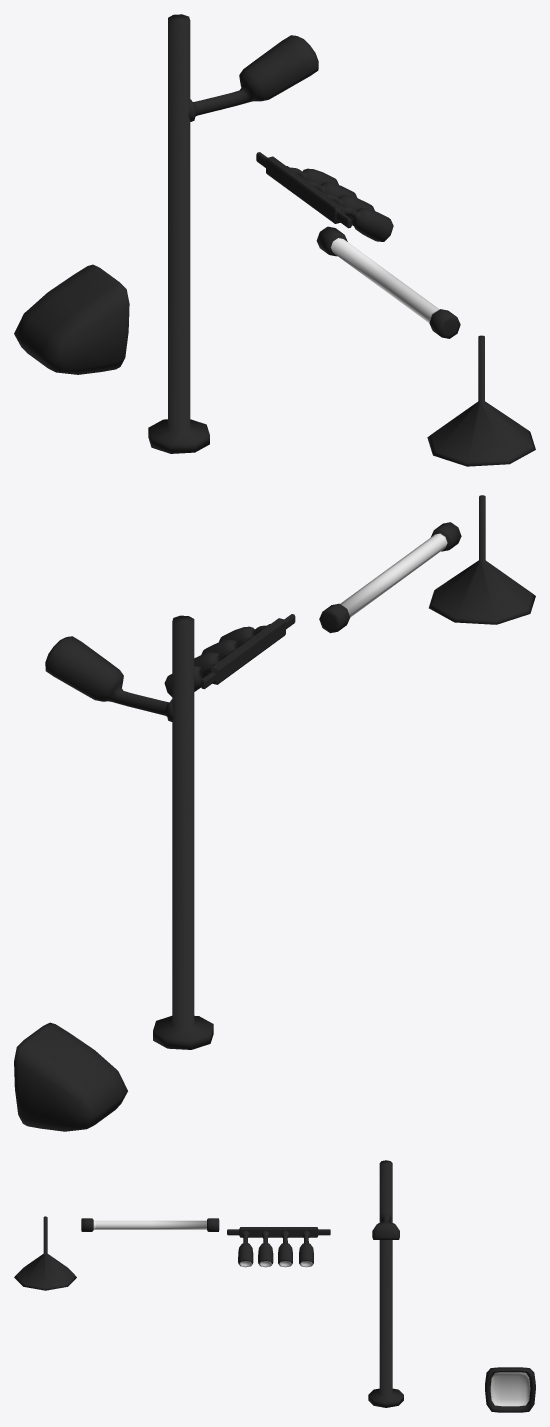
The model's file is Lights.fbx.
3 renders of one model, top to bottom at view 1: azimuth 30°, elevation 25°; view 2: azimuth 150°, elevation 25°; view 3: azimuth 270°, elevation 25°, orthographic. The views are drawn at different scales.
Parts seen in each view (by area): view 1: StreetPole, GroundLight, HangingLight, WallLights, StreetLightLamp, TubeLight; view 2: StreetPole, GroundLight, HangingLight, StreetLightLamp, WallLights, TubeLight; view 3: StreetPole, WallLights, GroundLight, HangingLight, TubeLight, StreetLightLamp.
Part boxes in pixels (box(x1,y1,x2,y2)): StreetPole: box(148, 14, 209, 453); GroundLight: box(14, 264, 129, 374); HangingLight: box(427, 335, 535, 466); WallLights: box(256, 152, 393, 241); StreetLightLamp: box(188, 35, 318, 121); TubeLight: box(316, 226, 460, 338); StreetPole: box(153, 615, 213, 1049); GroundLight: box(14, 1022, 127, 1131); HangingLight: box(429, 495, 535, 624); StreetLightLamp: box(45, 636, 173, 721); WallLights: box(164, 614, 295, 696); TubeLight: box(319, 522, 461, 633); StreetPole: box(368, 1160, 403, 1407); WallLights: box(227, 1227, 330, 1267); GroundLight: box(485, 1367, 535, 1412); HangingLight: box(14, 1216, 76, 1290); TubeLight: box(81, 1218, 219, 1231); StreetLightLamp: box(372, 1212, 399, 1239).
Bounding box in the file's own units: 452 × 1019 × 2005.
2 materials, 1 textured.
